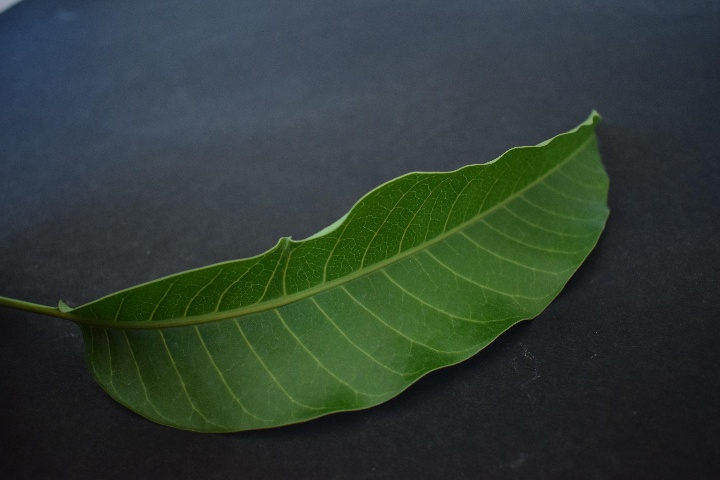healthy: (68, 118, 640, 435)
